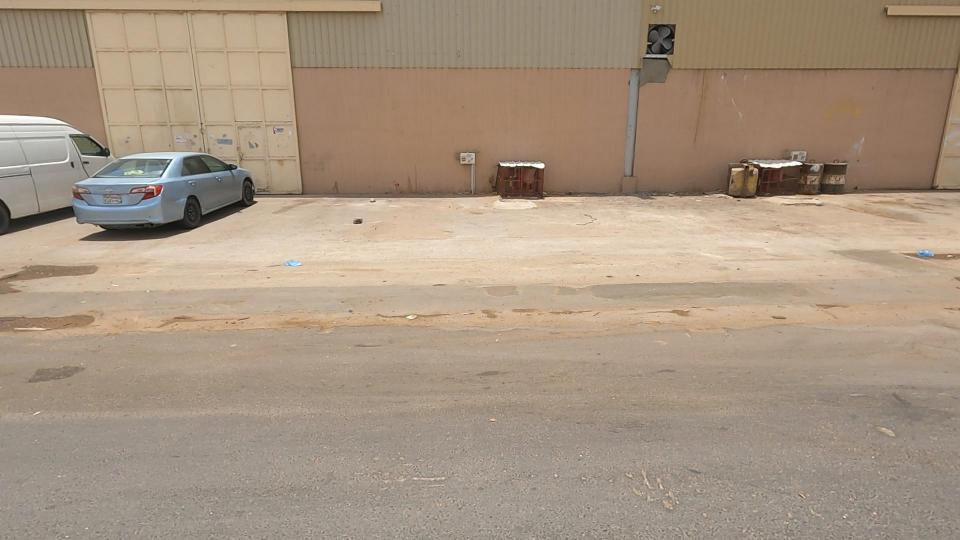GARBAGE: (227, 230, 345, 292), (886, 230, 955, 280)
POTHOLES: (641, 258, 928, 376), (483, 256, 722, 389), (11, 258, 259, 375), (339, 265, 572, 366), (184, 275, 409, 375)
